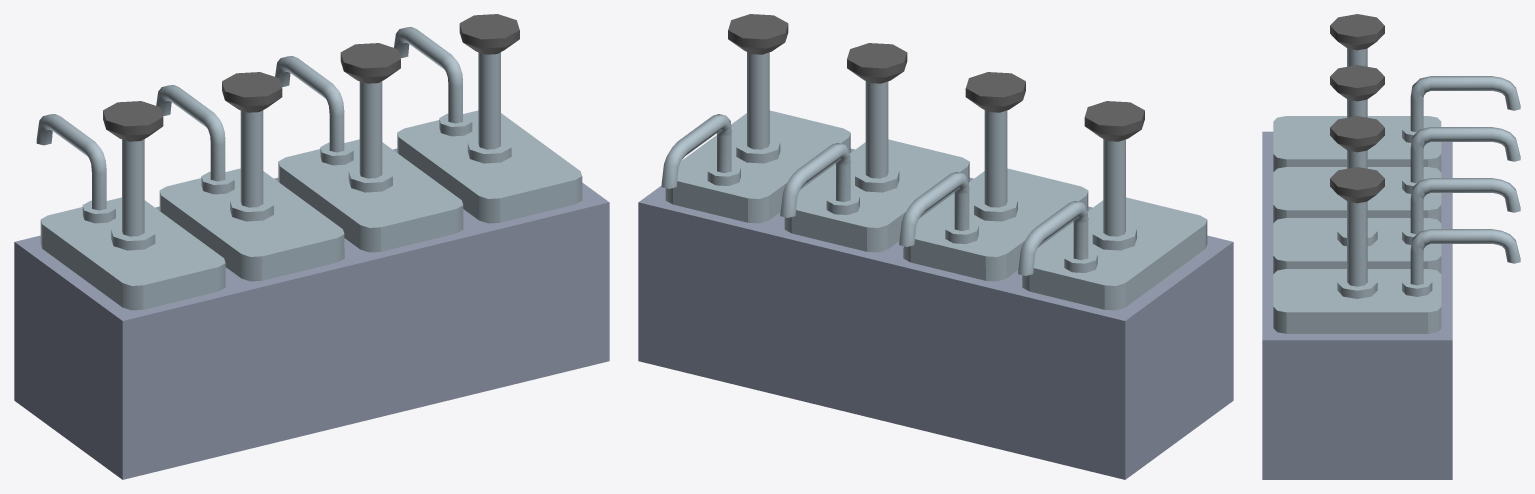
Rendered from Dispenser_geo.fbx.
3 views of the same model, side by side, from view 1: azimuth 30°, elevation 25°; view 2: azimuth 150°, elevation 25°; view 3: azimuth 270°, elevation 25° (orthographic). The views are drawn at different scales.
Visible parts, largest first — view 1: Dispenser_geo; view 2: Dispenser_geo; view 3: Dispenser_geo.
Part boxes in pixels (bbox=[...]): Dispenser_geo: bbox=[14, 14, 609, 479]; Dispenser_geo: bbox=[638, 14, 1233, 479]; Dispenser_geo: bbox=[1262, 14, 1520, 479].
Size of the model in its own units: 1.38 by 0.7236 by 0.8443.
